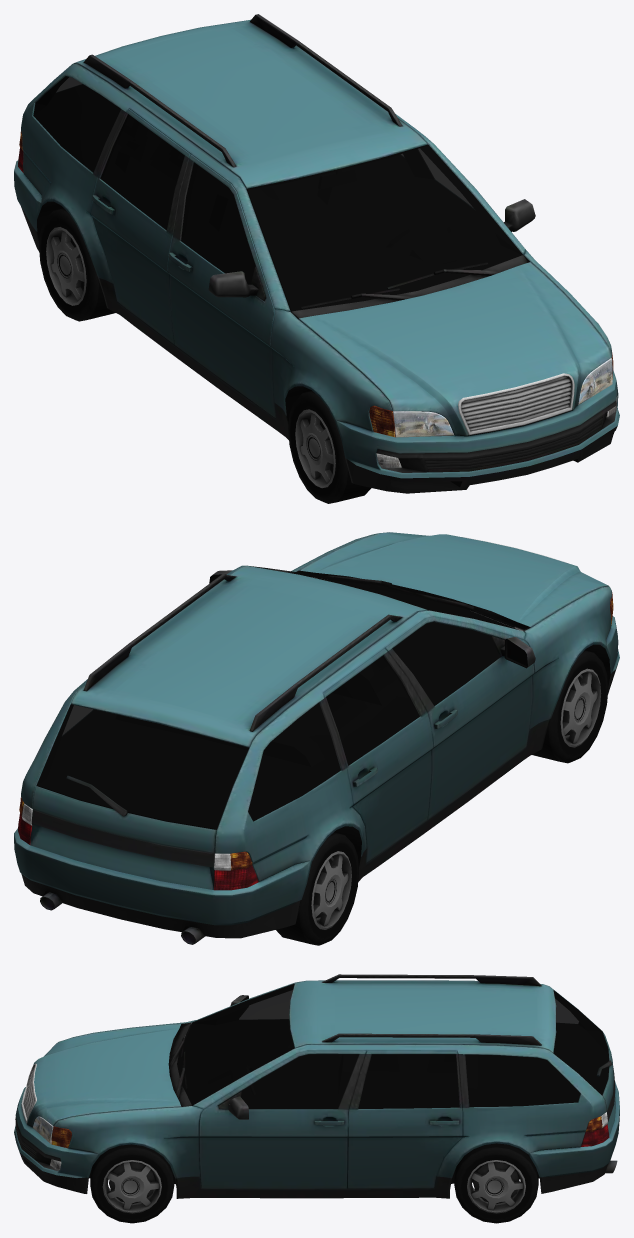
Rendered from car-wagon.glb.
3 views of the same model, one above another, from view 1: azimuth 30°, elevation 25°; view 2: azimuth 150°, elevation 25°; view 3: azimuth 270°, elevation 25° (orthographic). The views are drawn at different scales.
Visible parts, largest first — view 1: Wagon Body_Body_0, Wagon Body_Glass_0, Wheel_A002_Wheel_0, Wheel_A003_Wheel_0, Wagon Body_Optics_0; view 2: Wagon Body_Body_0, Wagon Body_Glass_0, Wheel_A003_Wheel_0, Wheel_A002_Wheel_0, Wagon Body_Optics_0; view 3: Wagon Body_Body_0, Wagon Body_Glass_0, Wheel_A001_Wheel_0, Wheel_A_Wheel_0, Wagon Body_Optics_0.
Part boxes in pixels (<box>): Wagon Body_Body_0: <box>14,14,619,493</box>; Wagon Body_Glass_0: <box>33,76,522,311</box>; Wheel_A002_Wheel_0: <box>288,391,371,503</box>; Wheel_A003_Wheel_0: <box>39,208,115,321</box>; Wagon Body_Optics_0: <box>18,131,617,468</box>; Wagon Body_Body_0: <box>14,532,619,944</box>; Wagon Body_Glass_0: <box>36,565,522,829</box>; Wheel_A003_Wheel_0: <box>276,832,359,945</box>; Wheel_A002_Wheel_0: <box>532,650,608,763</box>; Wagon Body_Optics_0: <box>18,592,613,890</box>; Wagon Body_Body_0: <box>14,974,619,1198</box>; Wagon Body_Glass_0: <box>177,983,609,1109</box>; Wheel_A001_Wheel_0: <box>454,1143,538,1223</box>; Wheel_A_Wheel_0: <box>90,1144,174,1223</box>; Wagon Body_Optics_0: <box>32,1112,609,1170</box>.
Size of the model in its own units: 1.95 by 1.38 by 4.38.
4 materials, 3 textured.
